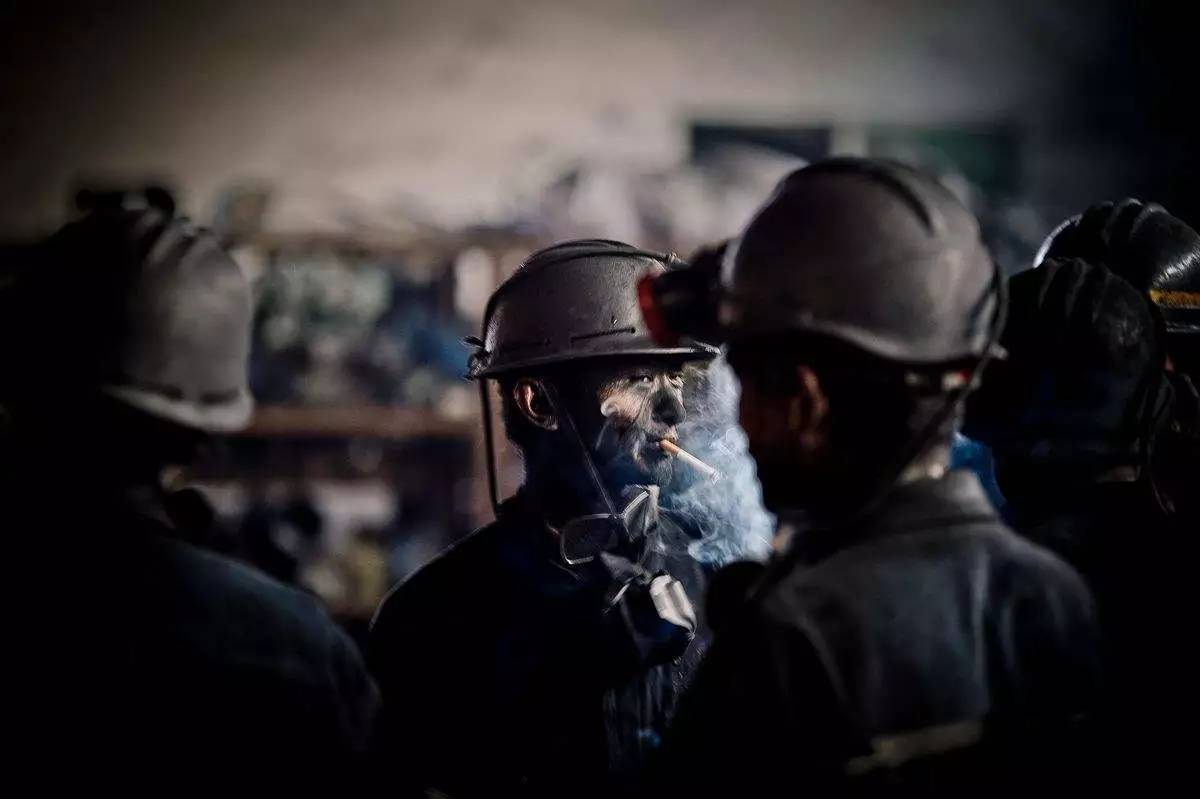helmet: (727, 153, 1017, 429), (460, 212, 718, 486)
